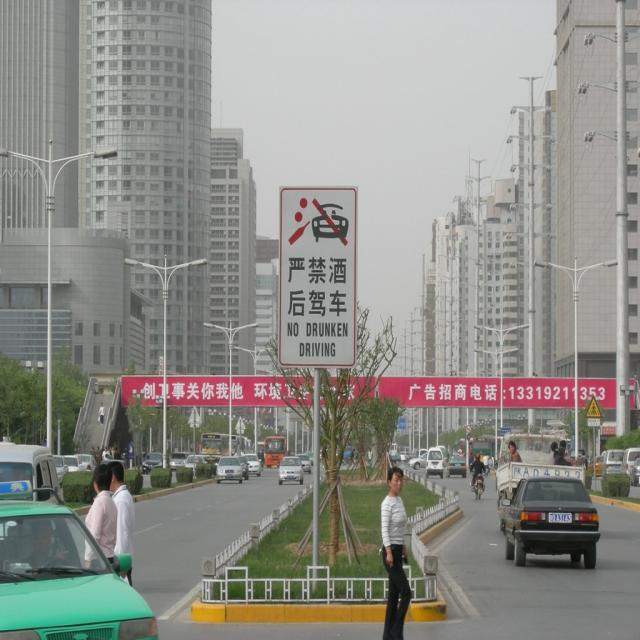car: (0, 490, 161, 638), (504, 468, 606, 572), (212, 452, 242, 483), (619, 441, 639, 482), (424, 446, 445, 482), (600, 446, 622, 479), (277, 457, 304, 483), (442, 452, 467, 478), (71, 446, 97, 467), (62, 447, 79, 471), (50, 451, 66, 476), (245, 454, 262, 474), (631, 457, 639, 487), (302, 450, 311, 470), (405, 458, 422, 468), (242, 450, 247, 478)
